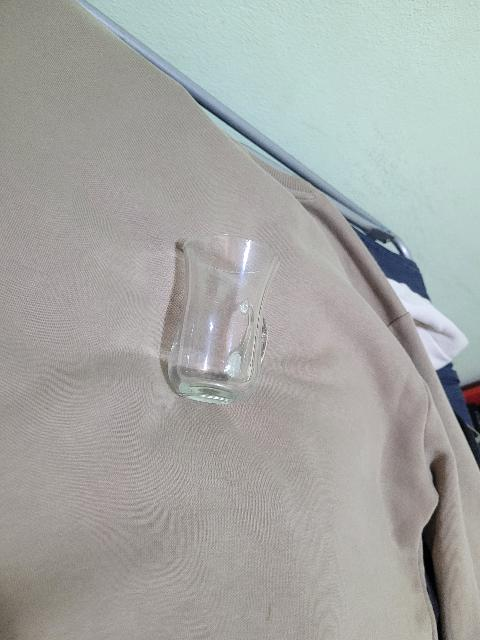Cam: (167, 233, 276, 412)
